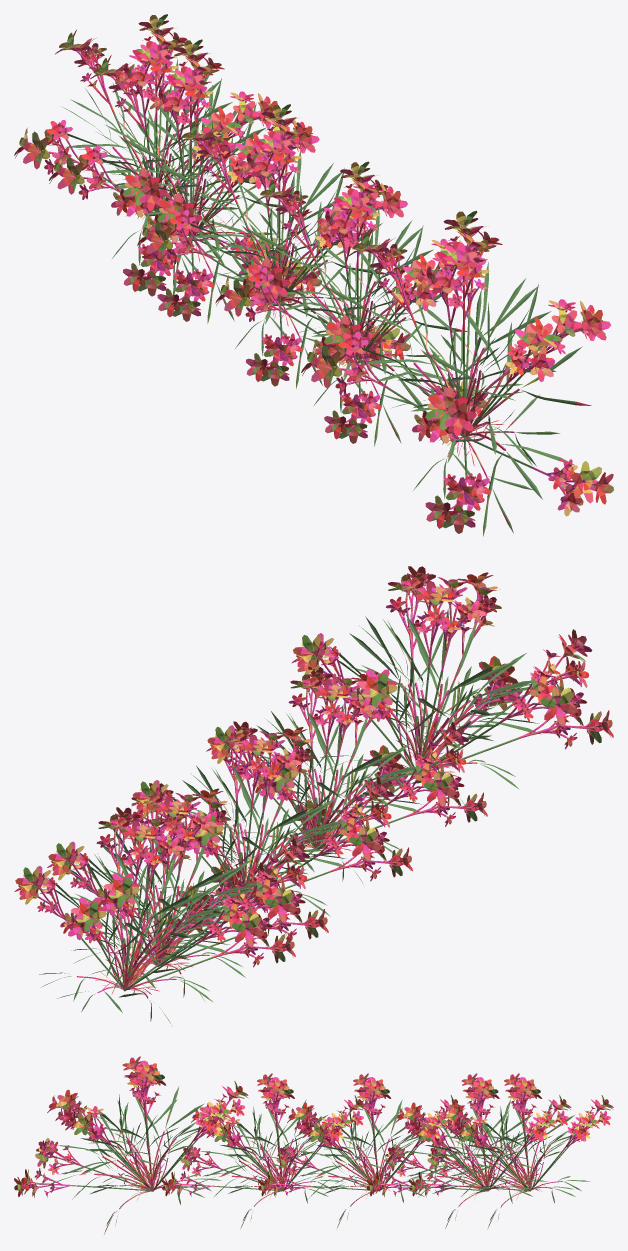
Rendered from Flores.obj.
3 renders of one model, top to bottom at view 1: azimuth 30°, elevation 25°; view 2: azimuth 150°, elevation 25°; view 3: azimuth 270°, elevation 25°, orthographic. The views are drawn at different scales.
Visible parts, largest first — view 1: 1coreopsi.005; view 2: 1coreopsi.005; view 3: 1coreopsi.005.
Boxes of the visible parts, x1=… form: 1coreopsi.005: x1=14, y1=14, x2=613, y2=536; 1coreopsi.005: x1=14, y1=566, x2=613, y2=1026; 1coreopsi.005: x1=14, y1=1056, x2=613, y2=1234.
Bounding box in the file's own units: 5.98 × 6.1 × 19.41.
1 material, 1 textured.
